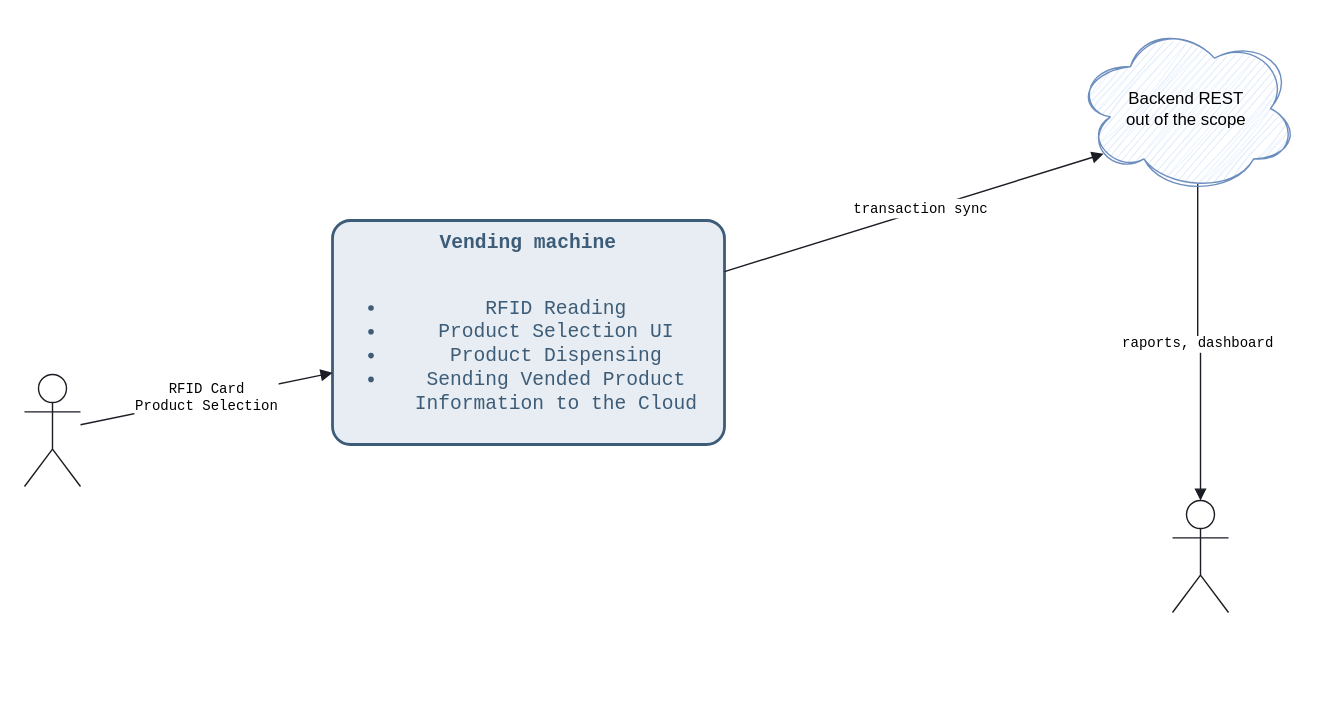
Some shapes in this 1323 by 703 pixel diagram are drawn without their labels. Here are the shapes that lost their labels. From the top down, the box of each, then its label:
(23, 373, 80, 486): Client
(1171, 499, 1228, 612): Operator
